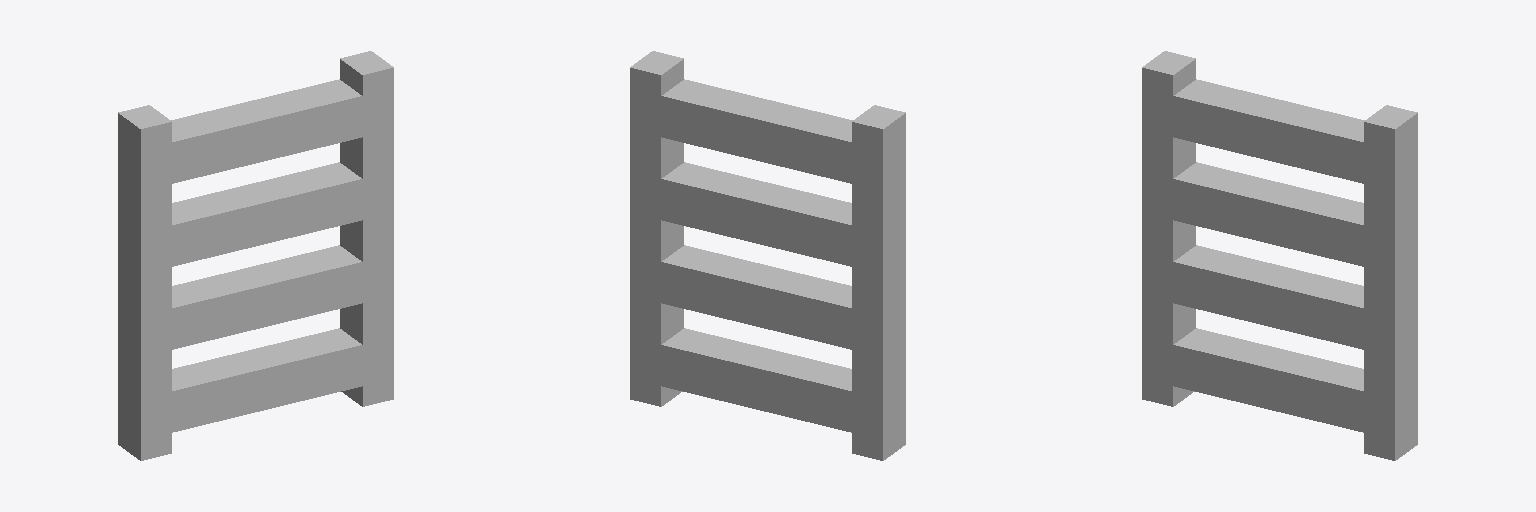
Rendered from Ladder.obj.
The picture shows the model from 3 angles: view 1: azimuth 30°, elevation 25°; view 2: azimuth 150°, elevation 25°; view 3: azimuth 330°, elevation 25°; orthographic projection.
Parts seen in each view (by area): view 1: Cube.001, Cube, Cube.004, Cube.002, Cube.005, Cube.003; view 2: Cube.001, Cube, Cube.004, Cube.002, Cube.005, Cube.003; view 3: Cube, Cube.001, Cube.004, Cube.002, Cube.005, Cube.003.
Boxes of the visible parts, x1=… form: Cube.001: x1=118, y1=105, x2=171, y2=460; Cube: x1=340, y1=51, x2=393, y2=406; Cube.004: x1=172, y1=328, x2=362, y2=432; Cube.002: x1=172, y1=245, x2=362, y2=349; Cube.005: x1=172, y1=162, x2=362, y2=266; Cube.003: x1=171, y1=79, x2=362, y2=183; Cube.001: x1=852, y1=105, x2=905, y2=460; Cube: x1=630, y1=51, x2=683, y2=406; Cube.004: x1=661, y1=328, x2=851, y2=432; Cube.002: x1=661, y1=245, x2=851, y2=349; Cube.005: x1=661, y1=162, x2=851, y2=266; Cube.003: x1=661, y1=79, x2=852, y2=183; Cube: x1=1364, y1=105, x2=1417, y2=460; Cube.001: x1=1142, y1=51, x2=1195, y2=406; Cube.004: x1=1173, y1=328, x2=1363, y2=432; Cube.002: x1=1173, y1=245, x2=1363, y2=349; Cube.005: x1=1173, y1=162, x2=1363, y2=266; Cube.003: x1=1173, y1=79, x2=1364, y2=183.
Bounding box in the file's own units: 0.7995 × 1 × 0.125.